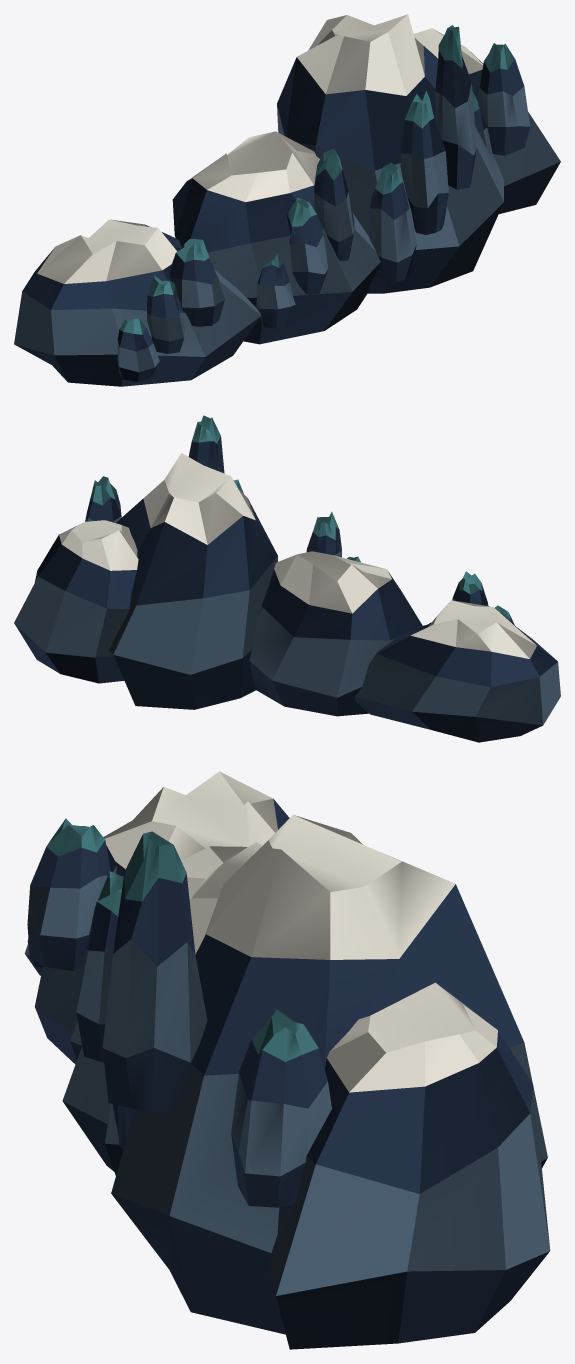
The model's file is frost-escarpment.glb.
3 renders of one model, top to bottom at view 1: azimuth 30°, elevation 25°; view 2: azimuth 150°, elevation 25°; view 3: azimuth 270°, elevation 25°, orthographic. The views are drawn at different scales.
Parts seen in each view (by area): view 1: frost-escarpment; view 2: frost-escarpment; view 3: frost-escarpment.
Part boxes in pixels (x1,y1,x2,y2): frost-escarpment: [14, 14, 560, 386]; frost-escarpment: [14, 415, 560, 742]; frost-escarpment: [24, 771, 550, 1349].
Bounding box in the file's own units: 25.18 × 11.23 × 11.86.
